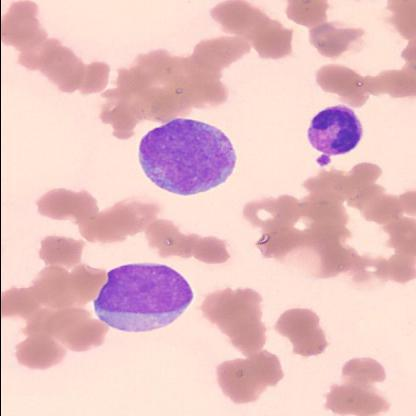Band Neutrophil: (304, 105, 371, 155)
Promyelocyte: (138, 118, 240, 194), (93, 262, 194, 336)
